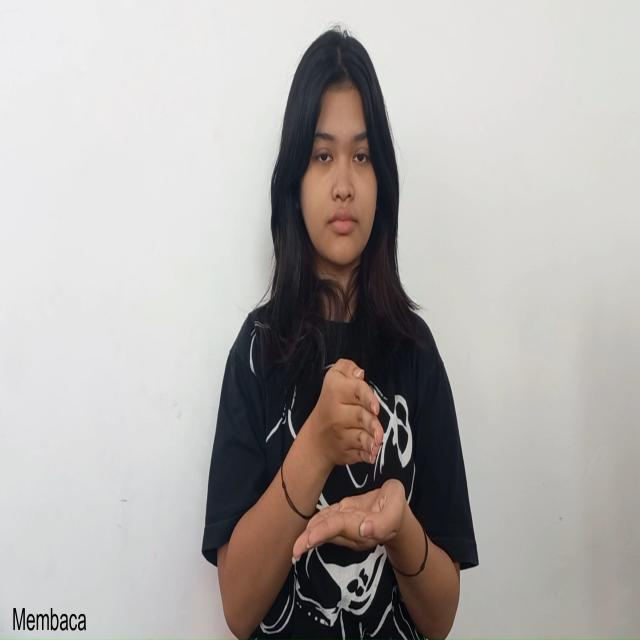Membaca -BISINDO-: (291, 357, 407, 563)
